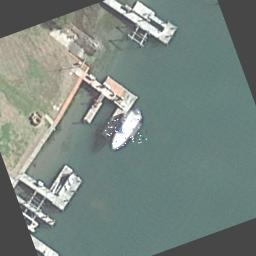boat: (100, 107, 150, 153)
